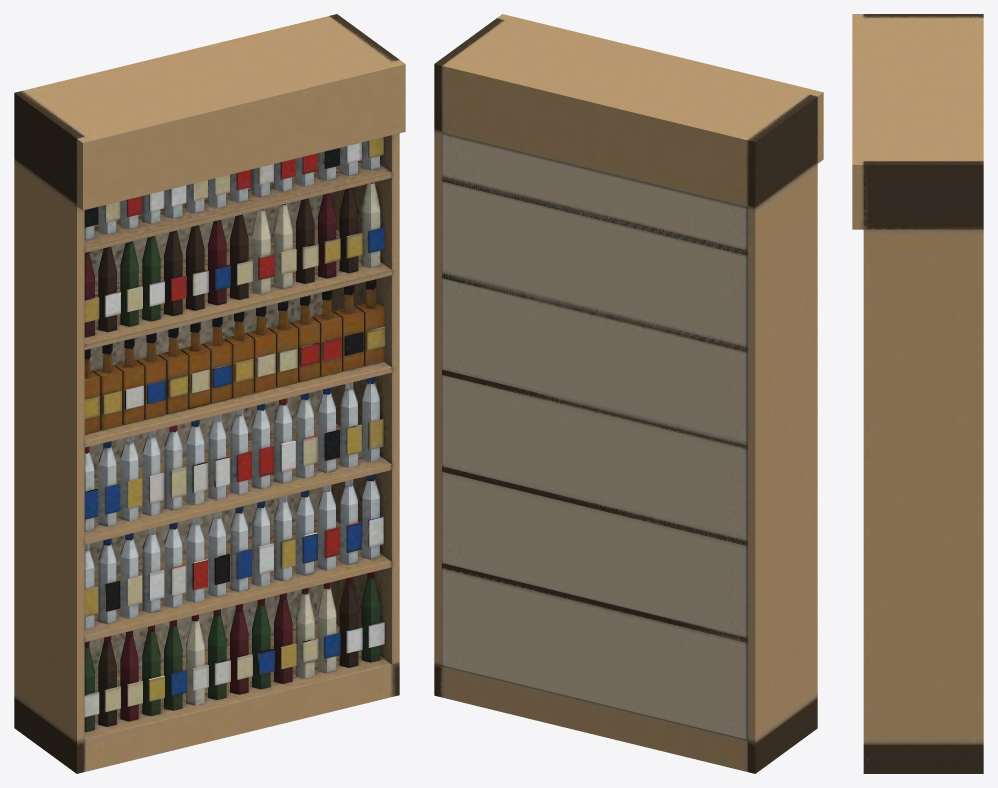
The model's file is regal_alk.glb.
The picture shows the model from 3 angles, left to right: view 1: azimuth 30°, elevation 25°; view 2: azimuth 150°, elevation 25°; view 3: azimuth 270°, elevation 25°; orthographic projection. The views are drawn at different scales.
Parts seen in each view (by area): view 1: regal_alk; view 2: regal_alk; view 3: regal_alk.
Part boxes in pixels (x1,y1,x2,y2): regal_alk: [14, 14, 405, 773]; regal_alk: [434, 14, 823, 773]; regal_alk: [852, 14, 983, 773].
Bounding box in the file's own units: 1.25 × 2.35 × 0.46.
1 material, 1 textured.
